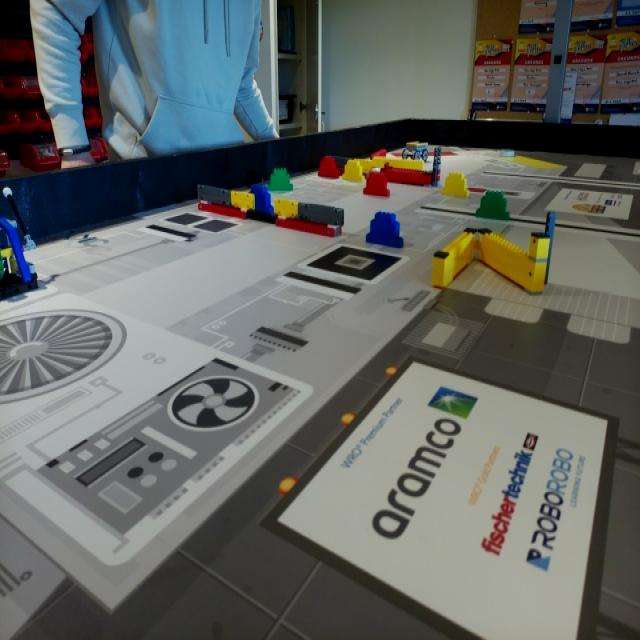blau: (368, 212, 401, 249), (250, 183, 273, 212)
gruen: (477, 192, 510, 218), (267, 169, 294, 192)
rot: (364, 172, 389, 198), (318, 158, 339, 178)
yellow: (444, 173, 469, 196), (344, 162, 360, 178)
